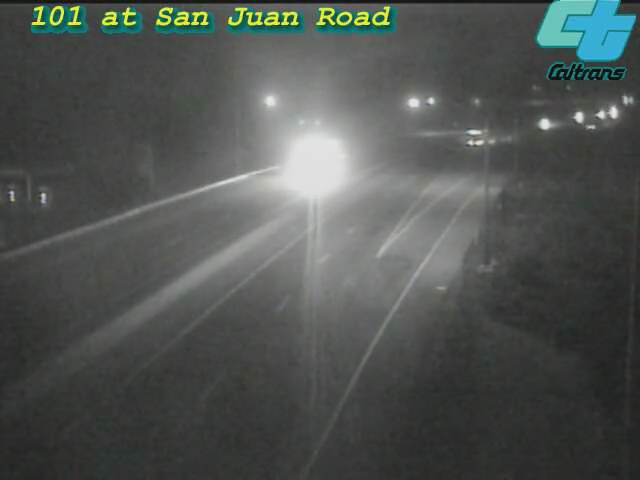vehicle: (272, 123, 352, 203), (526, 100, 576, 150), (567, 102, 617, 152), (449, 111, 499, 161), (551, 91, 601, 141), (590, 87, 640, 137), (576, 90, 626, 140)
